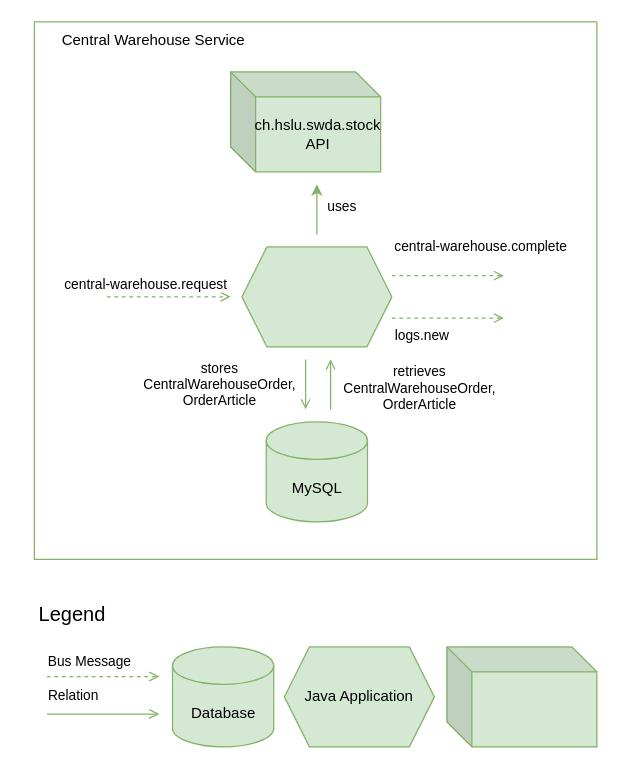
Image size: 619x769. Some labels were removed from this diagram. Each missing label, with the centre of its shape:
"Central Warehouse" belongs at point 316,296.
"Special Java APIs / libraries" belongs at point 521,696.
